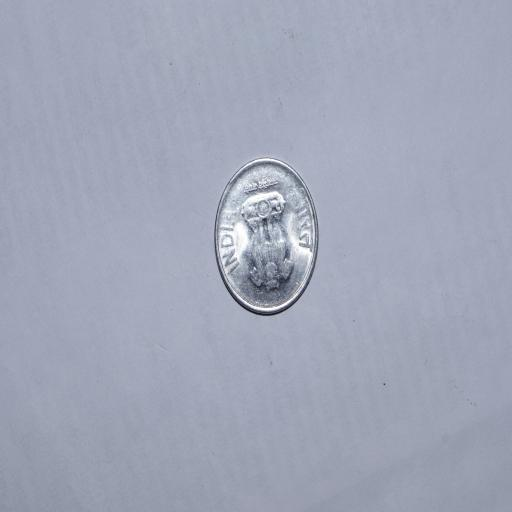rupee2: (209, 154, 322, 320)
